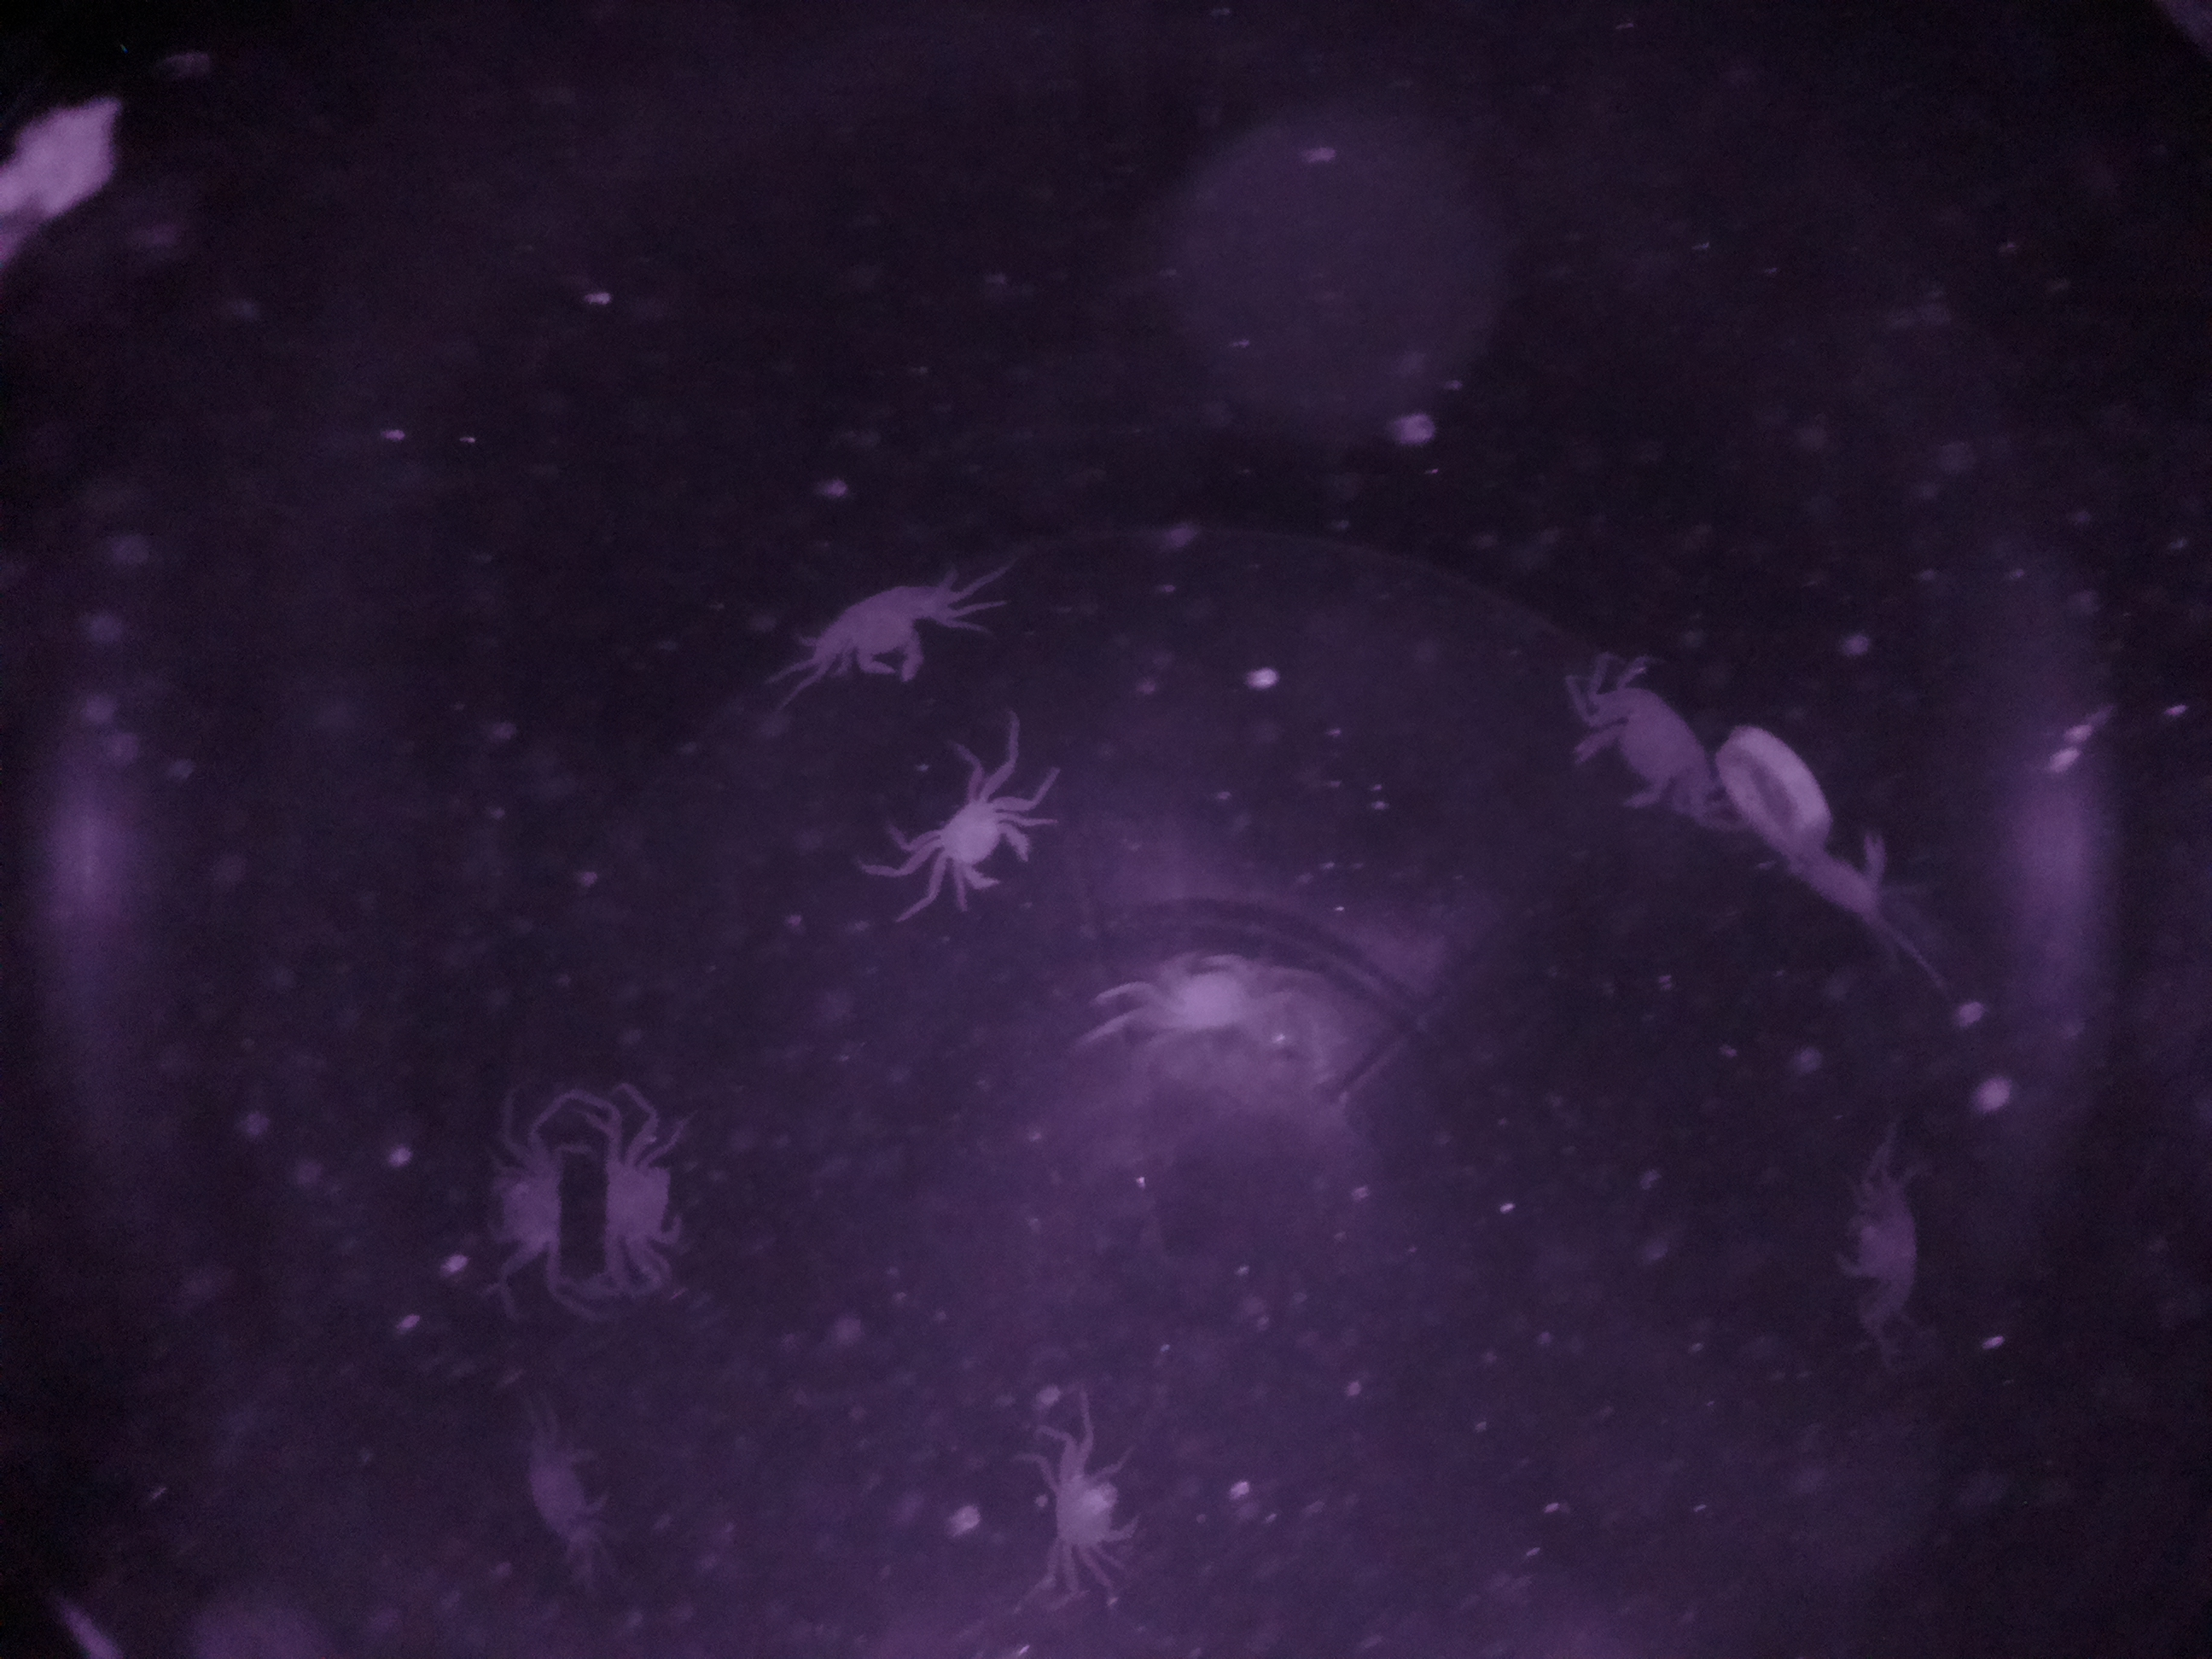Crab: (1550, 673, 1731, 828), (899, 753, 1040, 918), (1022, 1436, 1183, 1560), (469, 1121, 580, 1290), (826, 559, 954, 697), (596, 1121, 702, 1281)
